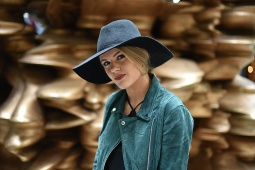female: (98, 35, 151, 91)
